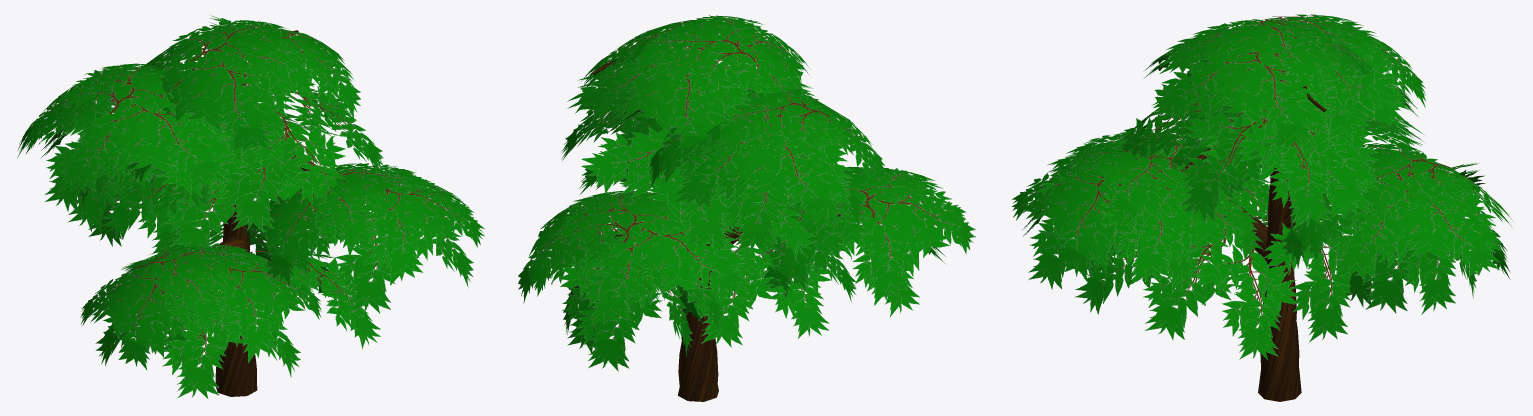
File: tree02.fbx
The picture shows the model from 3 angles, left to right: view 1: azimuth 30°, elevation 25°; view 2: azimuth 150°, elevation 25°; view 3: azimuth 270°, elevation 25°; orthographic projection. The views are drawn at different scales.
Visible parts, largest first — view 1: pPlane54 (×2), wood01; view 2: pPlane54 (×2), wood01; view 3: pPlane54 (×2), wood01.
Part boxes in pixels (x1,y1,x2,y2): pPlane54 (×2): (17,15,484,399); wood01: (209,30,326,396); pPlane54 (×2): (518,15,975,371); wood01: (593,56,861,401); pPlane54 (×2): (1012,14,1512,360); wood01: (1181,45,1412,401).
Size of the model in its own units: 57.85 by 54.77 by 70.33.
Materials: 1 (1 with a texture image).
